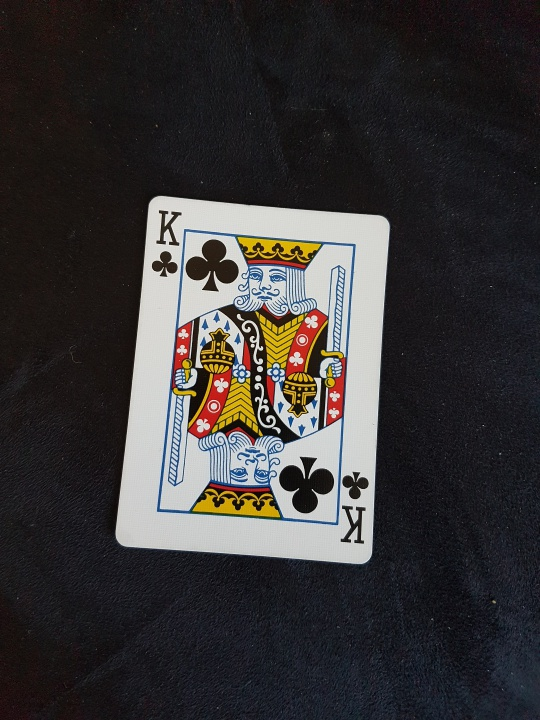king: (110, 168, 386, 577)
